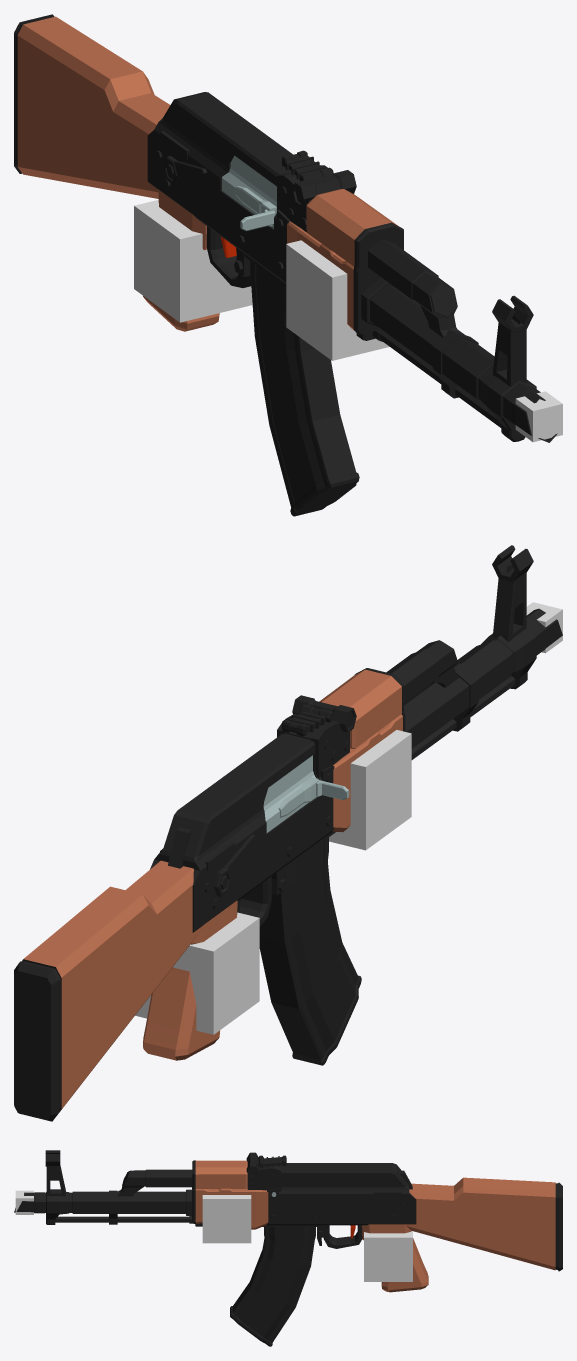
File: ak47_animated.glb
The picture shows the model from 3 angles, top to bottom: view 1: azimuth 30°, elevation 25°; view 2: azimuth 150°, elevation 25°; view 3: azimuth 270°, elevation 25°; orthographic projection. The views are drawn at different scales.
Parts seen in each view (by area): view 1: Cube.024, RightHand, LeftHand, Muzzle; view 2: Cube.024, RightHand, LeftHand; view 3: Cube.024, LeftHand, RightHand, Muzzle.
Part boxes in pixels (left/top/right/bottom): Cube.024: left=14, top=14, right=557, bottom=516; RightHand: left=134, top=200, right=252, bottom=322; LeftHand: left=286, top=240, right=389, bottom=360; Muzzle: left=515, top=391, right=562, bottom=442; Cube.024: left=14, top=545, right=562, bottom=1121; RightHand: left=135, top=912, right=259, bottom=1034; LeftHand: left=329, top=730, right=411, bottom=850; Cube.024: left=14, top=1150, right=562, bottom=1346; LeftHand: left=202, top=1195, right=251, bottom=1243; RightHand: left=364, top=1231, right=412, bottom=1281; Muzzle: left=15, top=1190, right=33, bottom=1214.
Bounding box in the file's own units: 2.34 × 8.63 × 22.48.
